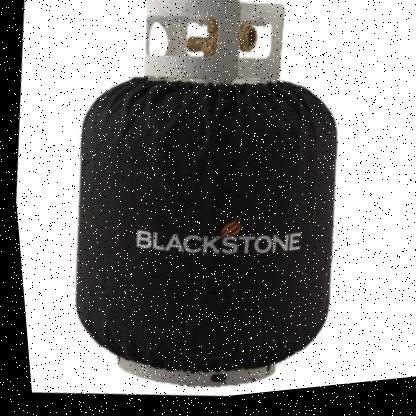gas-tank: (17, 0, 403, 414)
